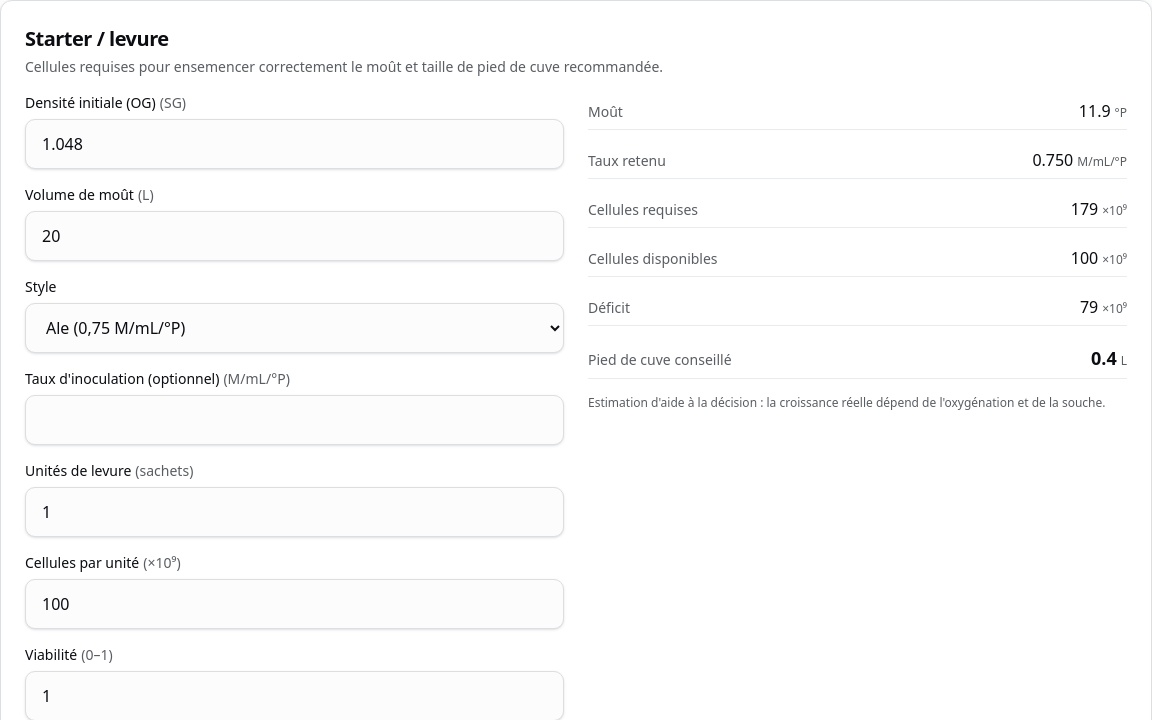
Test: StarterCalculator (§12.1) › saisie invalide (OG vidée) → message sans planter
The width and height of the screenshot is (1152, 720).
Clear the field labelled "Densité initiale (OG)(SG)" at {"x": 294, "y": 144}, box [25,119,564,169]
(page scrolled)
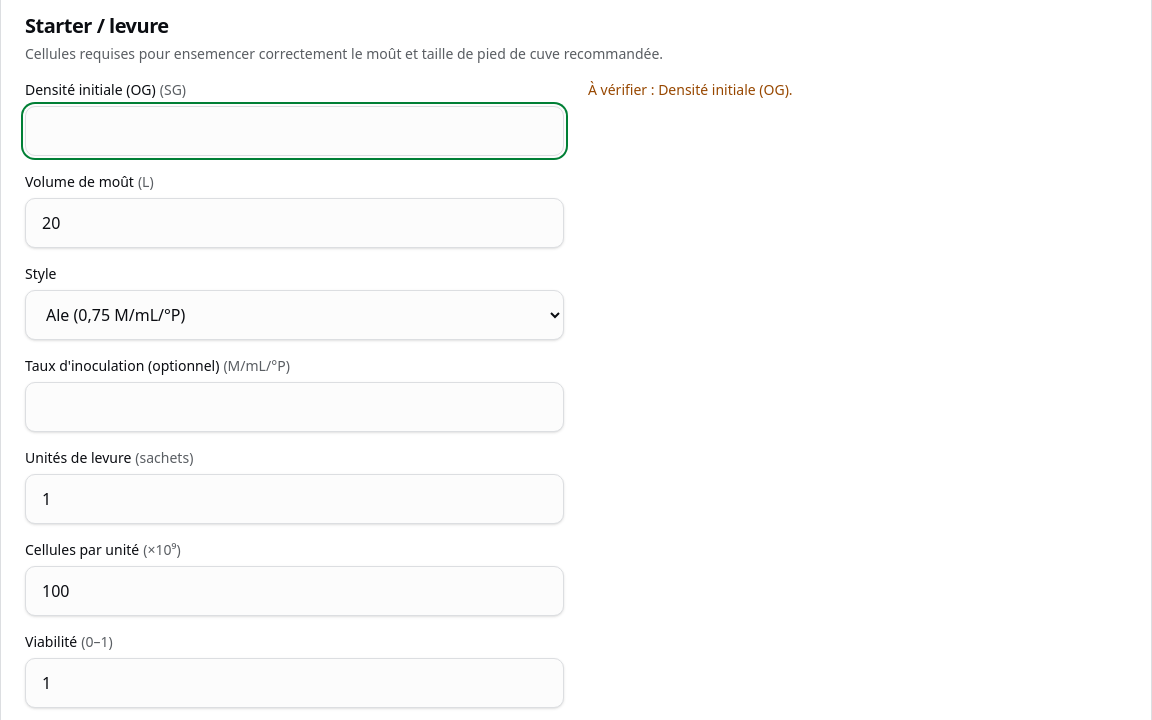
Check: the message shows "À vérifier", box [588,80,793,99]
